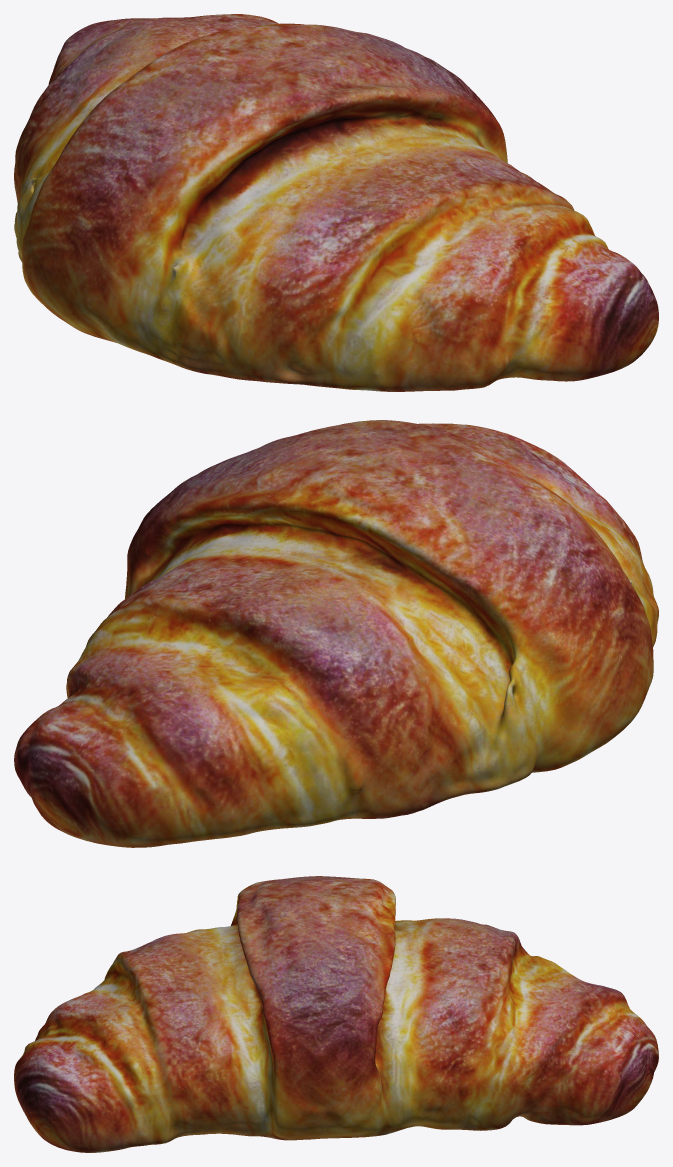
The model's file is croissant.glb.
The picture shows the model from 3 angles, top to bottom: view 1: azimuth 30°, elevation 25°; view 2: azimuth 150°, elevation 25°; view 3: azimuth 270°, elevation 25°; orthographic projection. The views are drawn at different scales.
Parts seen in each view (by area): view 1: Object_2; view 2: Object_2; view 3: Object_2.
Part boxes in pixels (<box>): Object_2: <box>14,14,658,391</box>; Object_2: <box>14,420,658,847</box>; Object_2: <box>14,876,658,1152</box>.
Size of the model in its own units: 0.6323 by 0.3117 by 1.
Materials: 1 (1 with a texture image).
